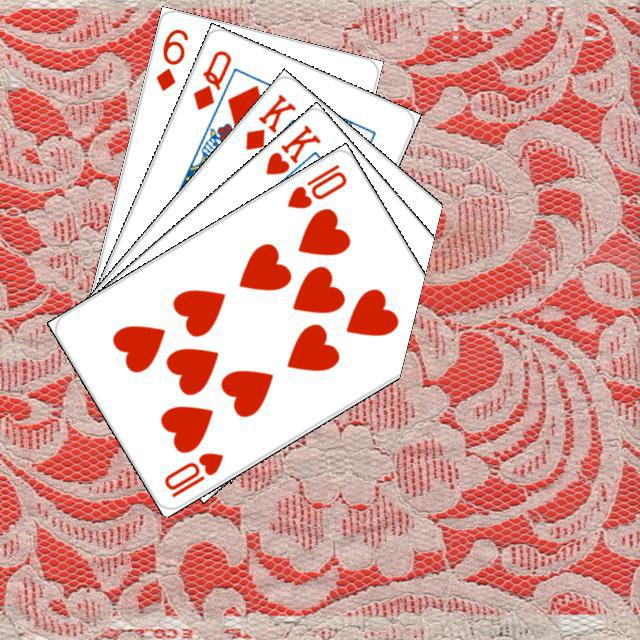10h: (281, 159, 349, 211), (159, 447, 225, 500)
6d: (151, 23, 191, 93)
Kd: (240, 88, 298, 152)
Kh: (260, 120, 323, 193)
Qd: (188, 45, 233, 112)
